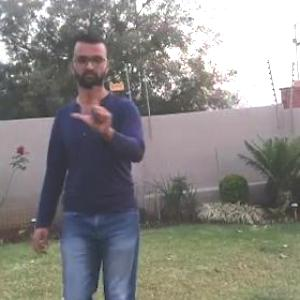land_hand: (68, 78, 118, 126)
